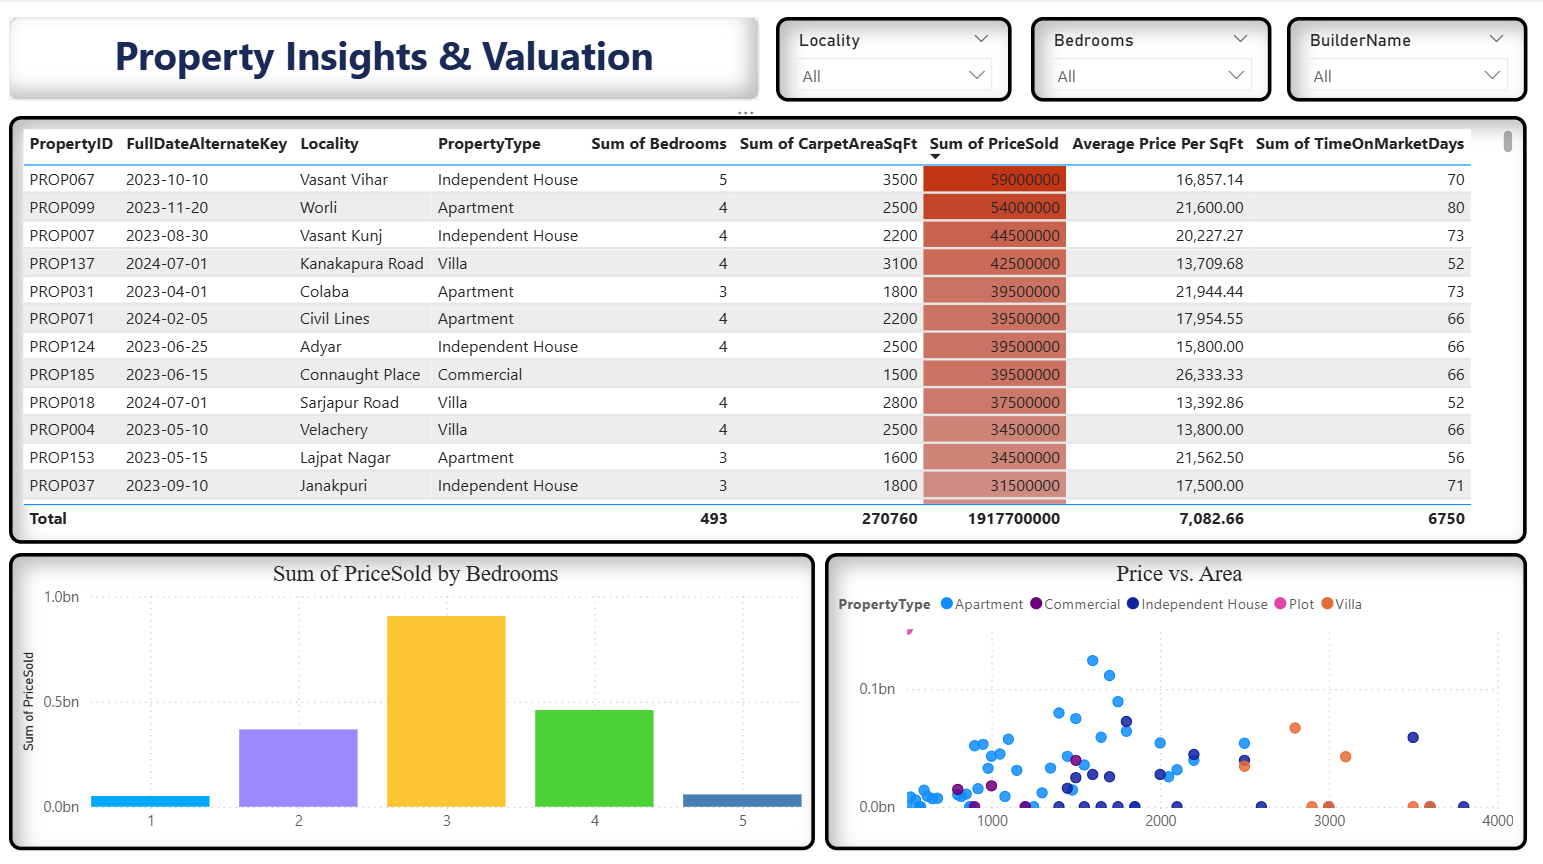

What the dashboard file says about the page in this screenshot:
{"tool":"powerbi","page":{"name":"Property Insights & Valuation","canvas":[1280,720],"ordinal":1},"visuals":[{"type":"textbox","box":[10,15,620.6,68.7],"z":0},{"type":"slicer","fields":{"Values":["RealEstateData.Locality"]},"box":[644.4,15,195,70],"z":1000},{"type":"slicer","fields":{"Values":["RealEstateData.Bedrooms"]},"box":[855.4,15,198.6,69.9],"z":2000},{"type":"slicer","fields":{"Values":["RealEstateData.BuilderName"]},"box":[1067.7,15,198.6,69.9],"z":3000},{"type":"tableEx","fields":{"Values":["RealEstateData.PropertyID","Date_Dim.FullDateAlternateKey","RealEstateData.Locality","RealEstateData.PropertyType","Sum(RealEstateData.Bedrooms)","Sum(RealEstateData.CarpetAreaSqFt)","Sum(RealEstateData.PriceSold)","RealEstateData.Average Price Per SqFt","Sum(RealEstateData.TimeOnMarketDays)"]},"box":[10.2,96.6,1255.6,353.8],"z":5000},{"type":"scatterChart","title":"Price vs. Area","fields":{"X":["RealEstateData.CarpetAreaSqFt"],"Y":["Sum(RealEstateData.PriceSold)"],"Series":["RealEstateData.PropertyType"]},"box":[685.2,458.5,580.5,246],"z":6000},{"type":"columnChart","fields":{"Category":["RealEstateData.Bedrooms"],"Y":["Sum(RealEstateData.PriceSold)"]},"box":[10.2,458.5,666.9,246],"z":6001}]}

Visuals, with their boxes in screenshot pixels (x1, y1, x2, y2), scaled from the page's 1280x720 canvas onto the 1543x864 screenshot:
textbox: (12,18,760,100)
slicer - RealEstateData.Locality: (777,18,1012,102)
slicer - RealEstateData.Bedrooms: (1031,18,1271,102)
slicer - RealEstateData.BuilderName: (1287,18,1526,102)
tableEx - RealEstateData.PropertyID x Date_Dim.FullDateAlternateKey: (12,116,1526,540)
"Price vs. Area" scatterChart: (826,550,1526,845)
columnChart - RealEstateData.Bedrooms x Sum(RealEstateData.PriceSold): (12,550,816,845)
